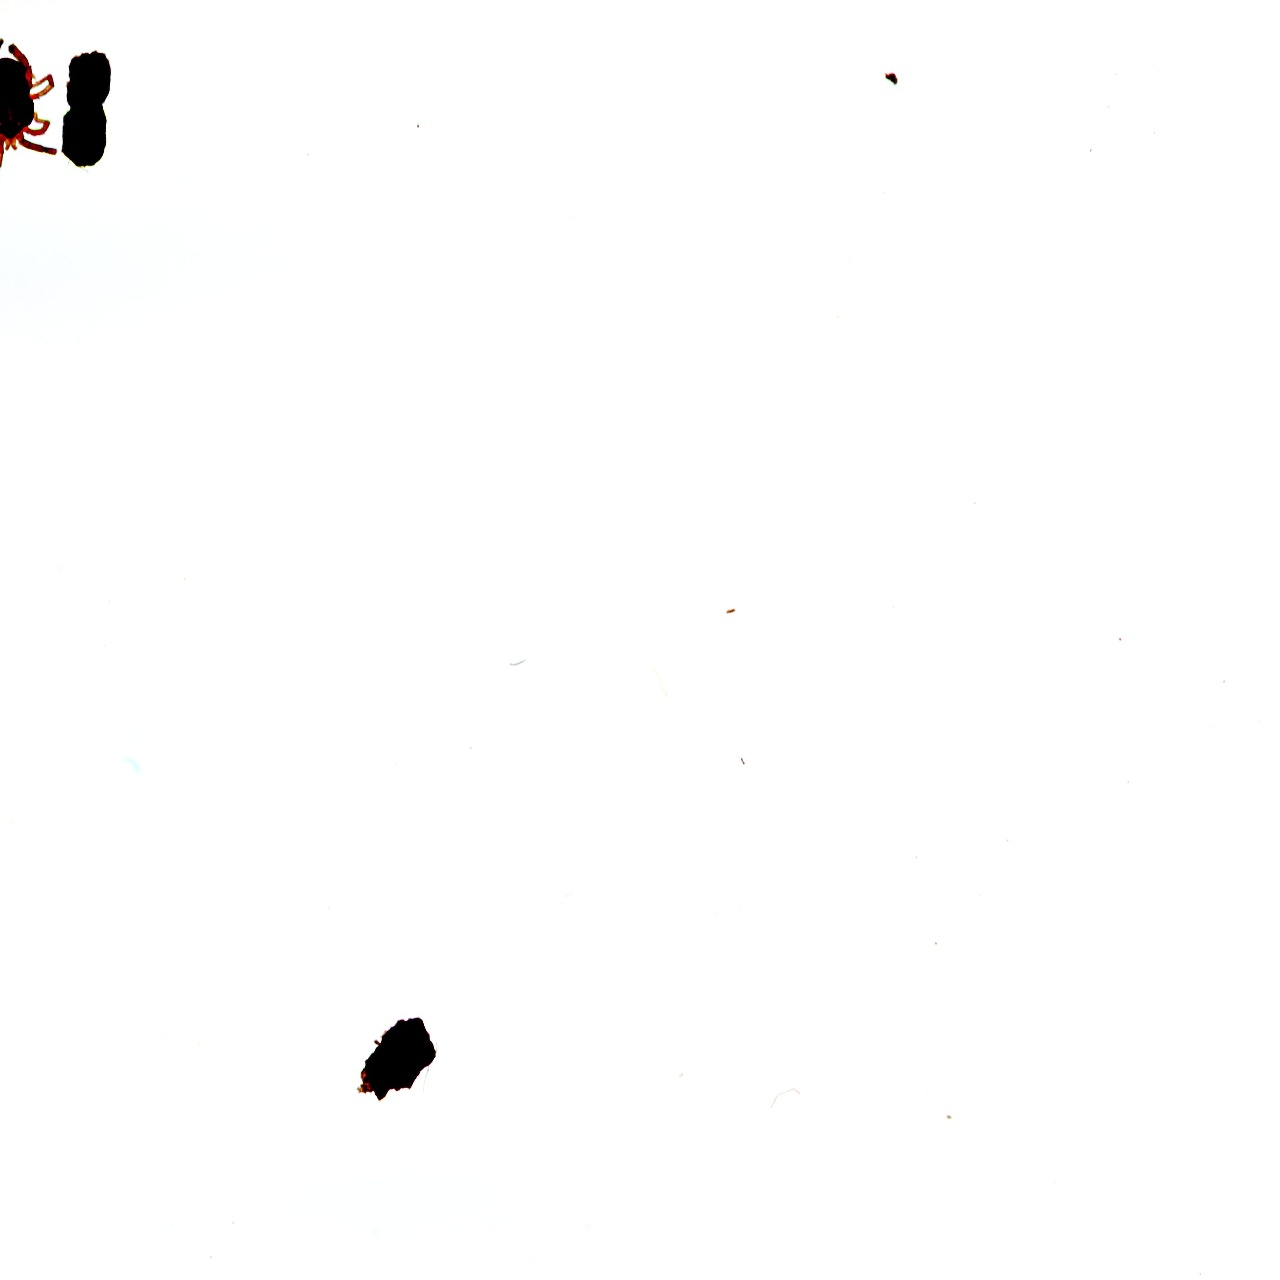arthropod: (0, 36, 57, 188)
